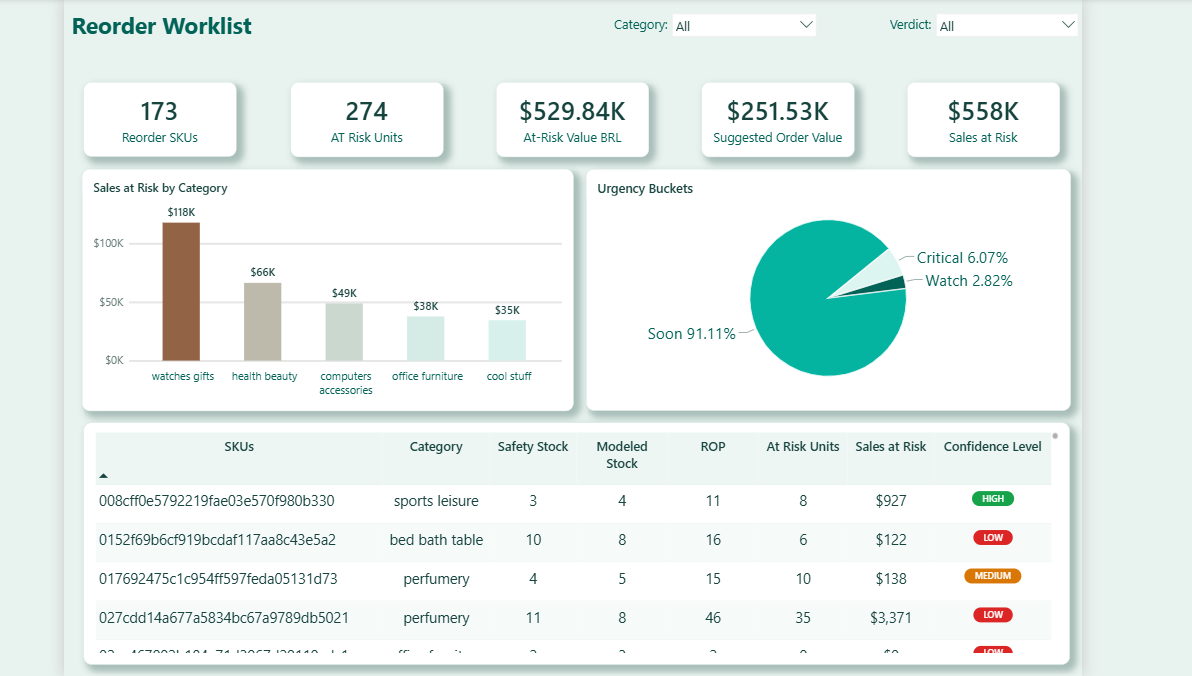

The page's visual inventory and layout, read from the dashboard file:
{"tool":"powerbi","page":{"name":"Reorder worklist","canvas":[1500,1000],"ordinal":3},"visuals":[{"type":"shape","title":"Reorder ","box":[12,0,425.9,78],"z":0},{"type":"card","fields":{"Values":["Count(decision_input.product_id)"]},"box":[29.4,124,225,110],"z":1000},{"type":"card","fields":{"Values":["Measure.Sales at Risk"]},"box":[1242.4,124,225,110.7],"z":2000},{"type":"pieChart","title":"Urgency Buckets","fields":{"Category":["Urgency.Level"],"Y":["Measure.SKUs by Urgency"]},"box":[768,252,714,356],"z":3000},{"type":"card","fields":{"Values":["Count(decision_input.at_risk_units)"]},"box":[332.6,124,225,110.7],"z":4000},{"type":"card","fields":{"Values":["Measure.At-Risk Value BRL"]},"box":[635.9,124,225,110.7],"z":5000},{"type":"card","fields":{"Values":["Measure.Suggested Order Value"]},"box":[939.1,124,225,110.7],"z":6000},{"type":"columnChart","title":"Sales at Risk by Category","fields":{"Y":["Measure.Sales at Risk"],"Category":["dim_category.category"]},"box":[26.6,252.5,724.2,356.5],"z":7000},{"type":"slicer","fields":{"Values":["dim_category.category"]},"box":[890.3,17.7,223.1,77.3],"z":8000},{"type":"slicer","fields":{"Values":["decision_input.verdict"]},"box":[1279.6,18,219.9,78],"z":9000},{"type":"shape","box":[749.6,9.4,140,60],"z":10000},{"type":"shape","box":[1138.3,8.9,139.5,59.8],"z":11000},{"type":"tableEx","fields":{"Values":["decision_input.product_id","decision_input.category","Measure.Safety Stock","Measure.Modeled Stock (Live)","Measure.ROP (Live)","decision_input.at_risk_units","Measure.Sales at Risk","decision_input.Confidence Level"]},"box":[28.8,624.5,1452.8,356.5],"z":12000}]}

Visuals, with their boxes on the page's 1500x1000 design canvas (x1, y1, x2, y2). These are canvas units, not pixel positions in the 1192x676 screenshot, which may show the page scaled, cropped or inside an application window:
"Reorder " shape: (left=12, top=0, right=438, bottom=78)
card - Count(decision_input.product_id): (left=29, top=124, right=254, bottom=234)
card - Measure.Sales at Risk: (left=1242, top=124, right=1467, bottom=235)
"Urgency Buckets" pieChart: (left=768, top=252, right=1482, bottom=608)
card - Count(decision_input.at_risk_units): (left=333, top=124, right=558, bottom=235)
card - Measure.At-Risk Value BRL: (left=636, top=124, right=861, bottom=235)
card - Measure.Suggested Order Value: (left=939, top=124, right=1164, bottom=235)
"Sales at Risk by Category" columnChart: (left=27, top=252, right=751, bottom=609)
slicer - dim_category.category: (left=890, top=18, right=1113, bottom=95)
slicer - decision_input.verdict: (left=1280, top=18, right=1500, bottom=96)
shape: (left=750, top=9, right=890, bottom=69)
shape: (left=1138, top=9, right=1278, bottom=69)
tableEx - decision_input.product_id x decision_input.category: (left=29, top=624, right=1482, bottom=981)
